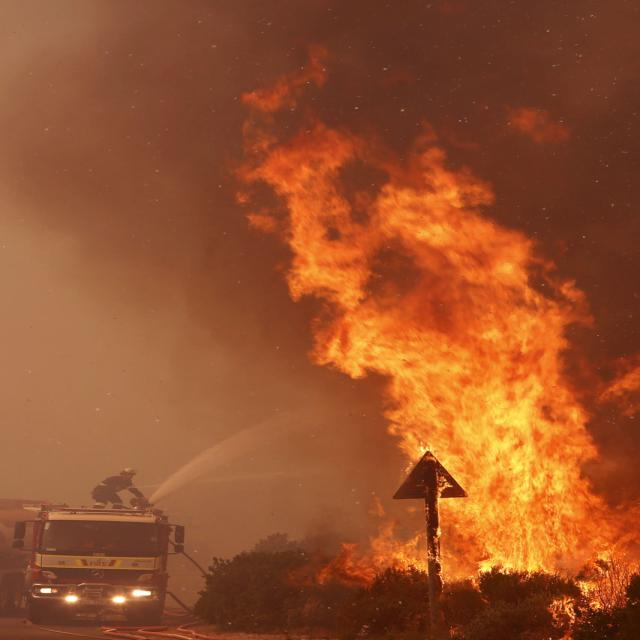Fire: (261, 130, 640, 614)
Smoke: (85, 0, 640, 481)
